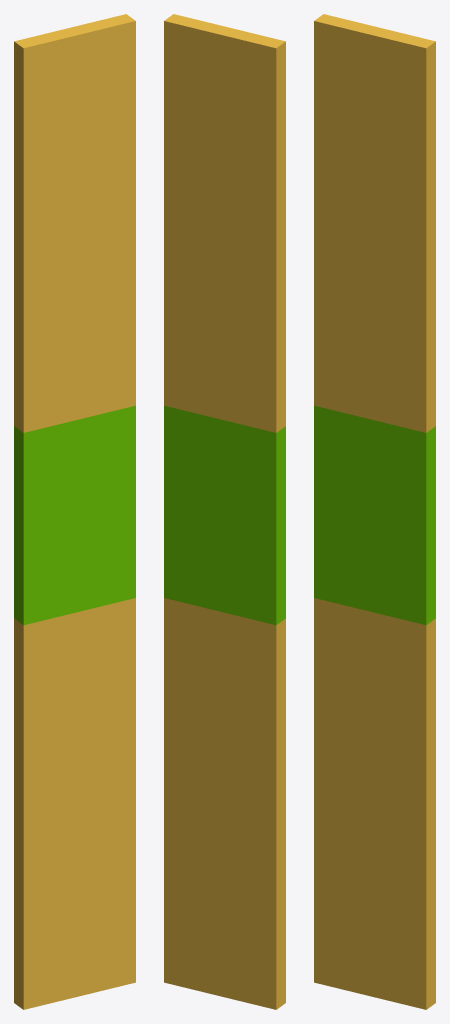
Rendered from Bar_2.fbx.
The picture shows the model from 3 angles, left to right: view 1: azimuth 30°, elevation 25°; view 2: azimuth 150°, elevation 25°; view 3: azimuth 330°, elevation 25°; orthographic projection.
Parts seen in each view (by area): view 1: pCube3; view 2: pCube3; view 3: pCube3.
Boxes of the visible parts, x1,y1,x2,y2 form: pCube3: (14,14,135,1009); pCube3: (164,14,285,1009); pCube3: (314,14,435,1009).
Bounding box in the file's own units: 69.88 × 572 × 10.26.
1 material, 1 textured.
